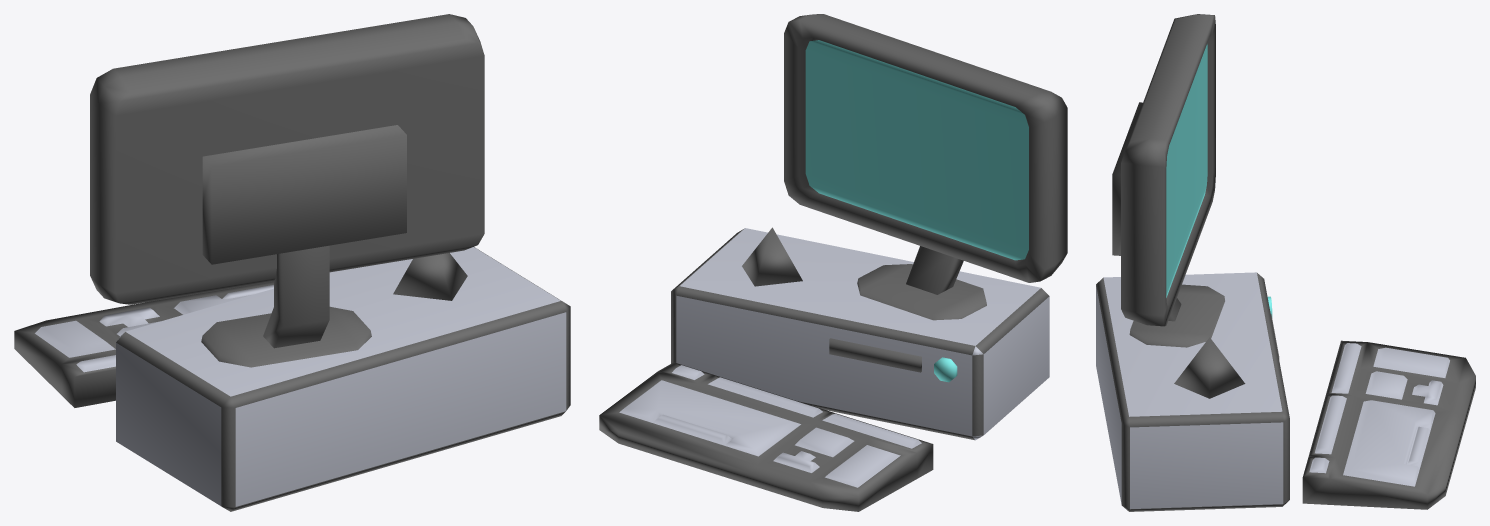
3 views of the same model, side by side, from view 1: azimuth 30°, elevation 25°; view 2: azimuth 150°, elevation 25°; view 3: azimuth 270°, elevation 25° (orthographic). The views are drawn at different scales.
Visible parts, largest first — view 1: mesh_PC_01; view 2: mesh_PC_01; view 3: mesh_PC_01.
Part boxes in pixels (x1,y1,x2,y2): mesh_PC_01: (14,14,570,511); mesh_PC_01: (599,14,1067,511); mesh_PC_01: (1096,14,1475,511).
Size of the model in its own units: 0.7244 by 0.6537 by 0.6695.
